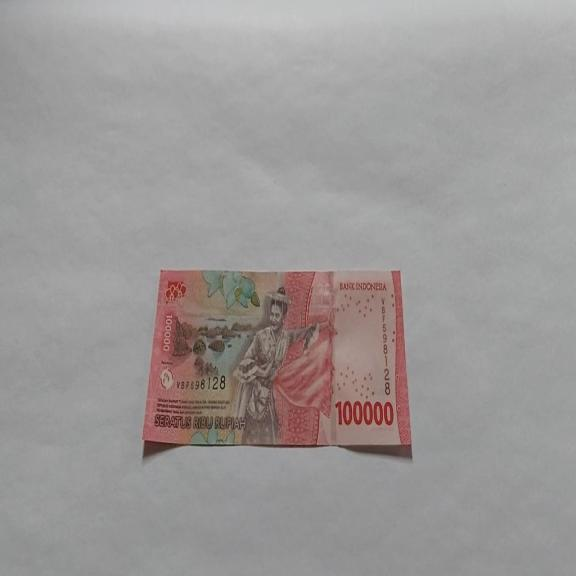Kertas: (141, 267, 413, 456), (334, 398, 394, 428)
